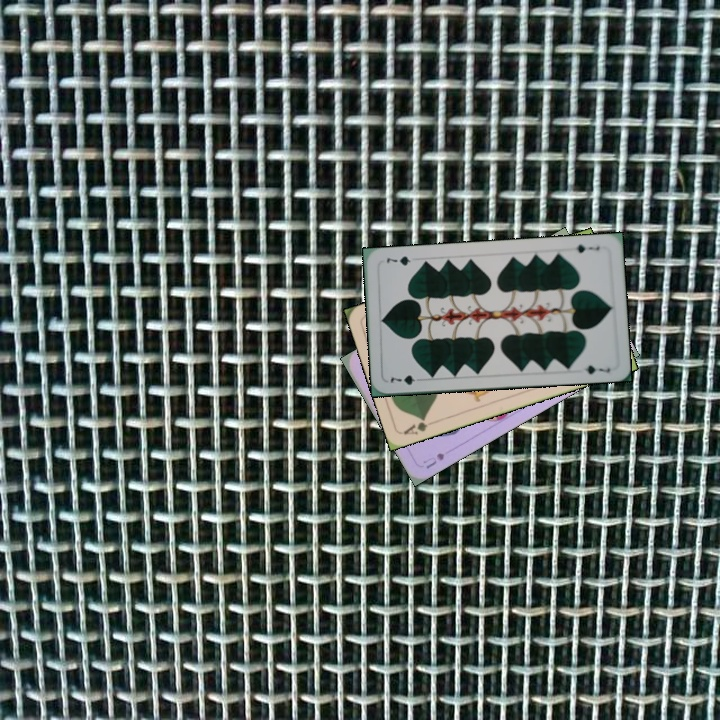G7: (387, 371, 426, 388), (572, 240, 602, 255)
GA: (400, 414, 430, 437)
SU: (419, 449, 447, 471)
